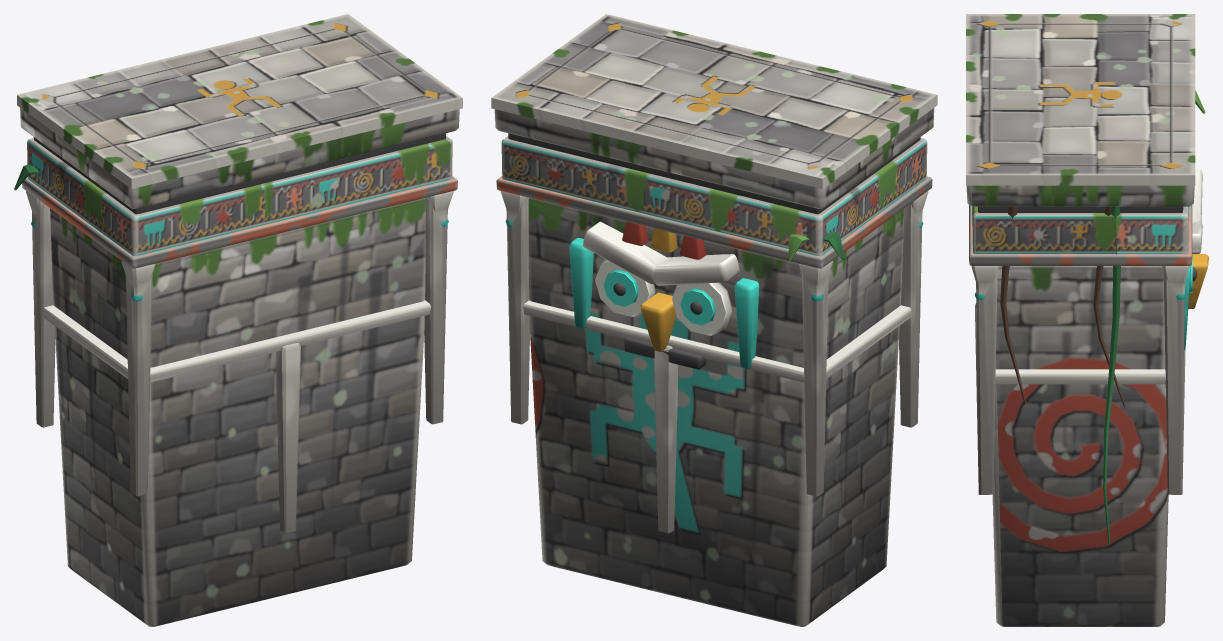
File: slab_S.glb
The picture shows the model from 3 angles, left to right: view 1: azimuth 30°, elevation 25°; view 2: azimuth 150°, elevation 25°; view 3: azimuth 270°, elevation 25°; orthographic projection.
Parts seen in each view (by area): view 1: slab_S.001; view 2: slab_S.001; view 3: slab_S.001.
Part boxes in pixels (bbox=[...]): slab_S.001: bbox=[14, 14, 462, 626]; slab_S.001: bbox=[491, 14, 937, 626]; slab_S.001: bbox=[966, 14, 1208, 626].
Size of the model in its own units: 10.36 by 13.6 by 6.36.
1 material, 1 textured.
